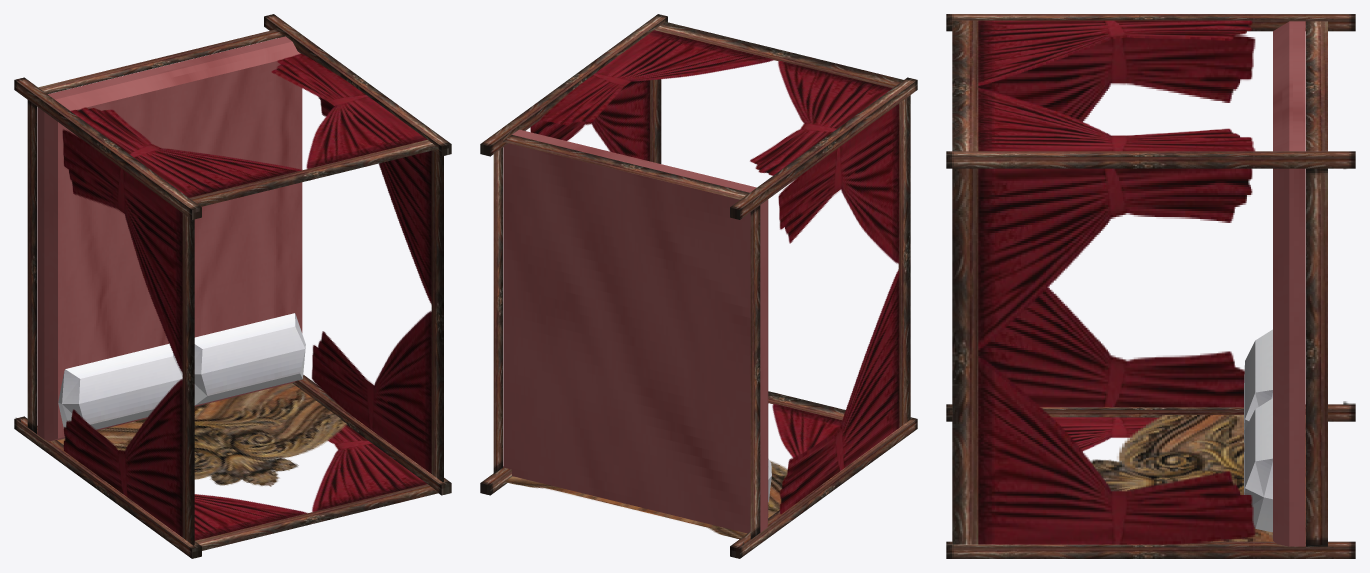
Rendered from master_bed.glb.
3 renders of one model, left to right at view 1: azimuth 30°, elevation 25°; view 2: azimuth 150°, elevation 25°; view 3: azimuth 270°, elevation 25°, orthographic. The views are drawn at different scales.
Visible parts, largest first — view 1: master_bed; view 2: master_bed; view 3: master_bed.
Boxes of the visible parts, x1,y1,x2,y2 form: master_bed: (14,14,451,558); master_bed: (480,14,917,558); master_bed: (946,14,1355,558).
Bounding box in the file's own units: 1.92 × 2.48 × 2.28.
Materials: 1 (1 with a texture image).
